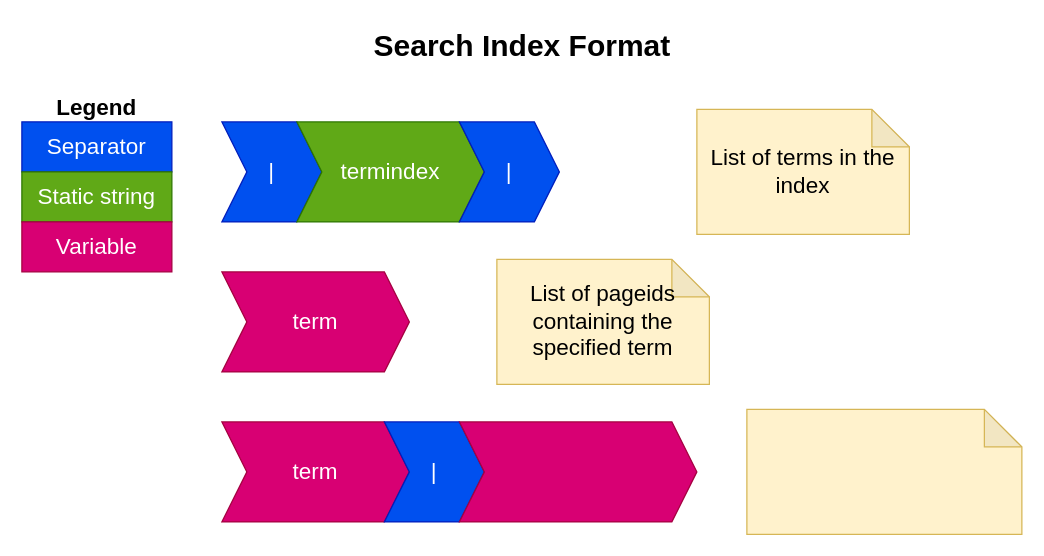
Some shapes in this 1044 by 556 pixel diagram are drawn without their labels. The shapes that lost their labels are listed below. From the top down, each one's centre as x and y in pixels, then its label:
At point 577,471: "pageid".
At point 884,471: "List of offsets for the specified pageid and term".
